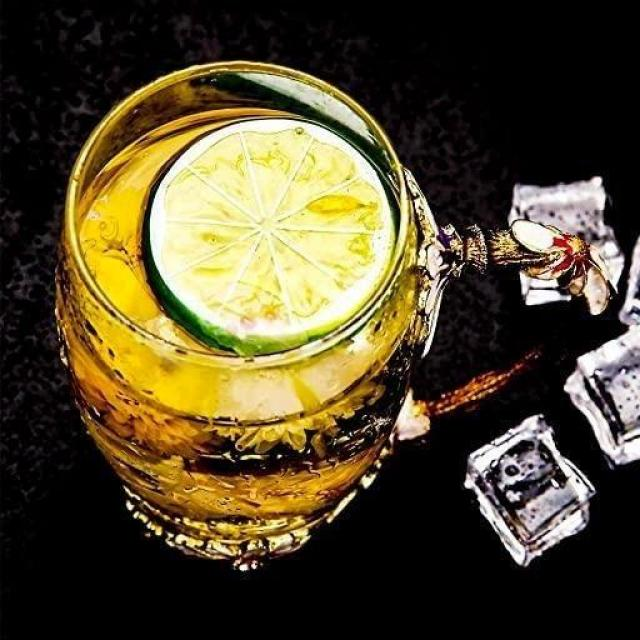glass-mug: (42, 50, 608, 576)
